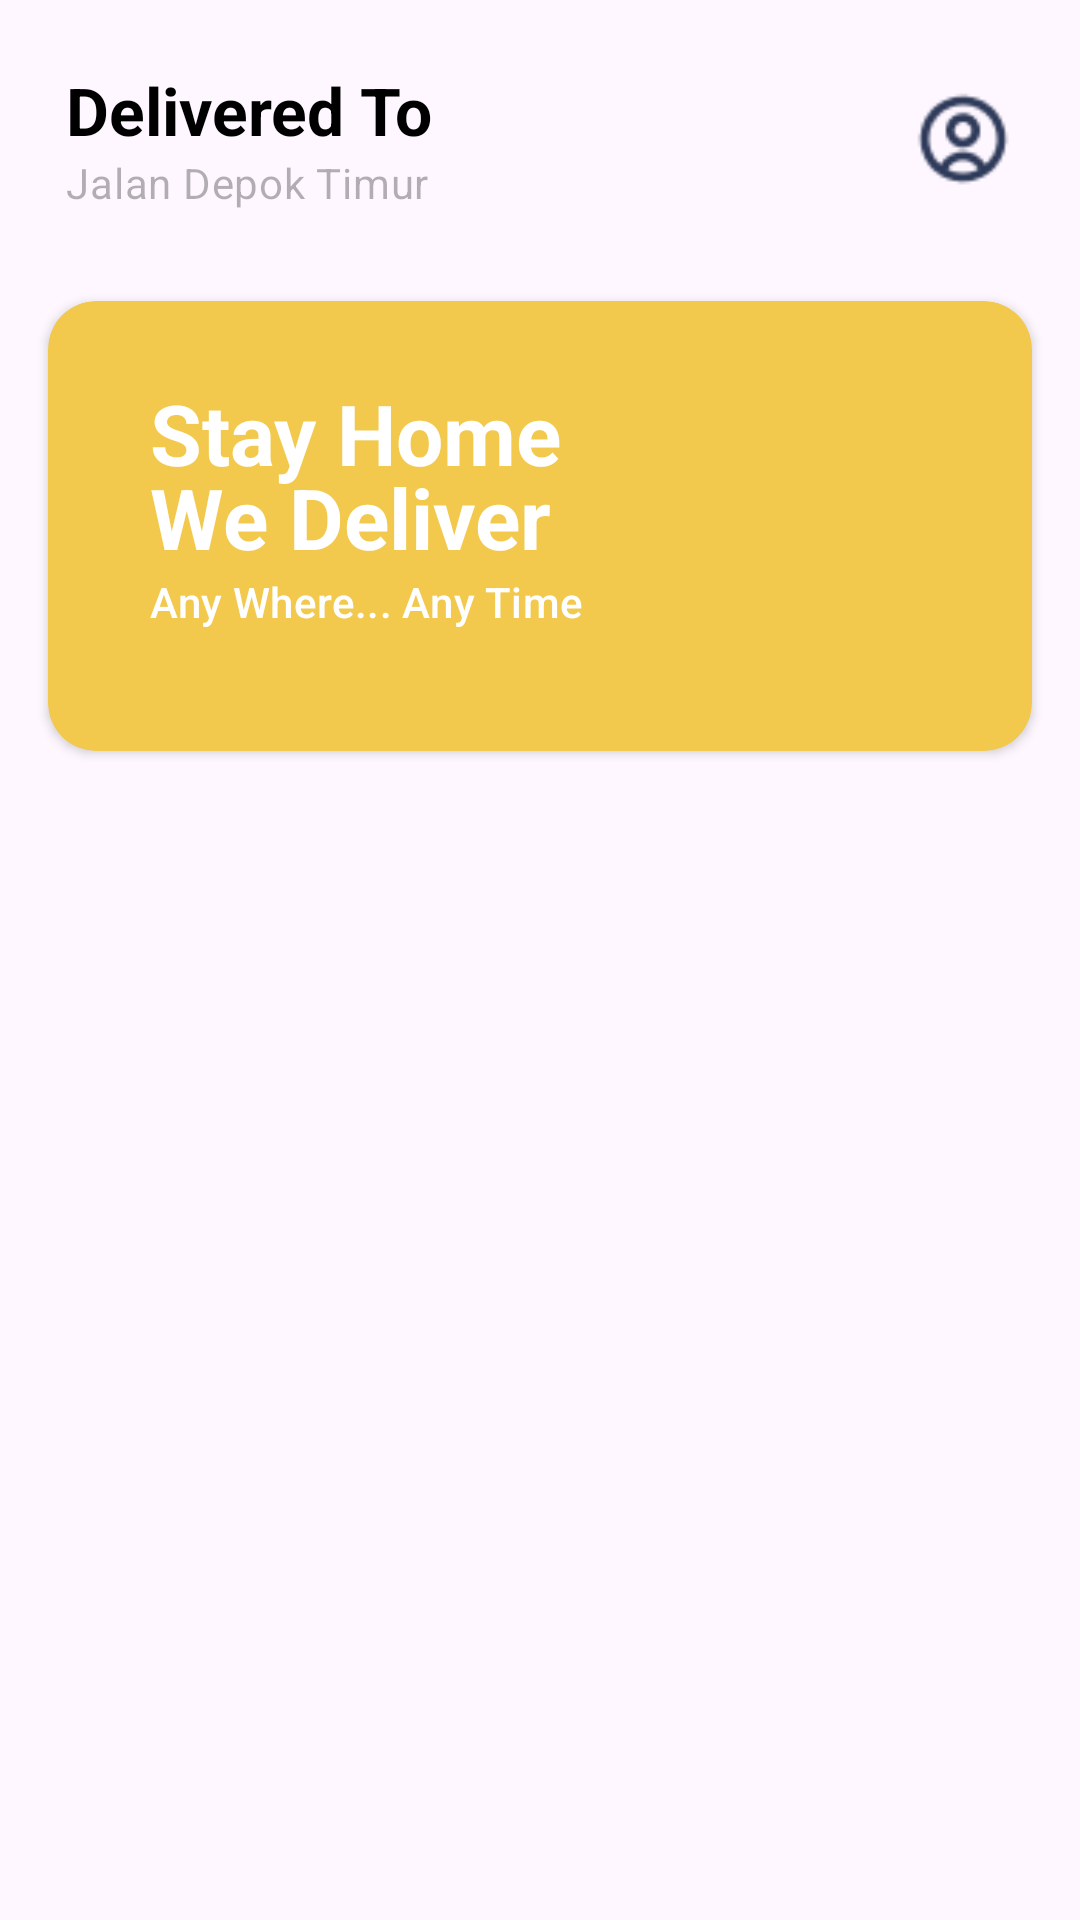

Where icons sit on this 1080 x 1920 app screen, as (x1, y1, x2, y2):
user: (918, 94, 1008, 184)
